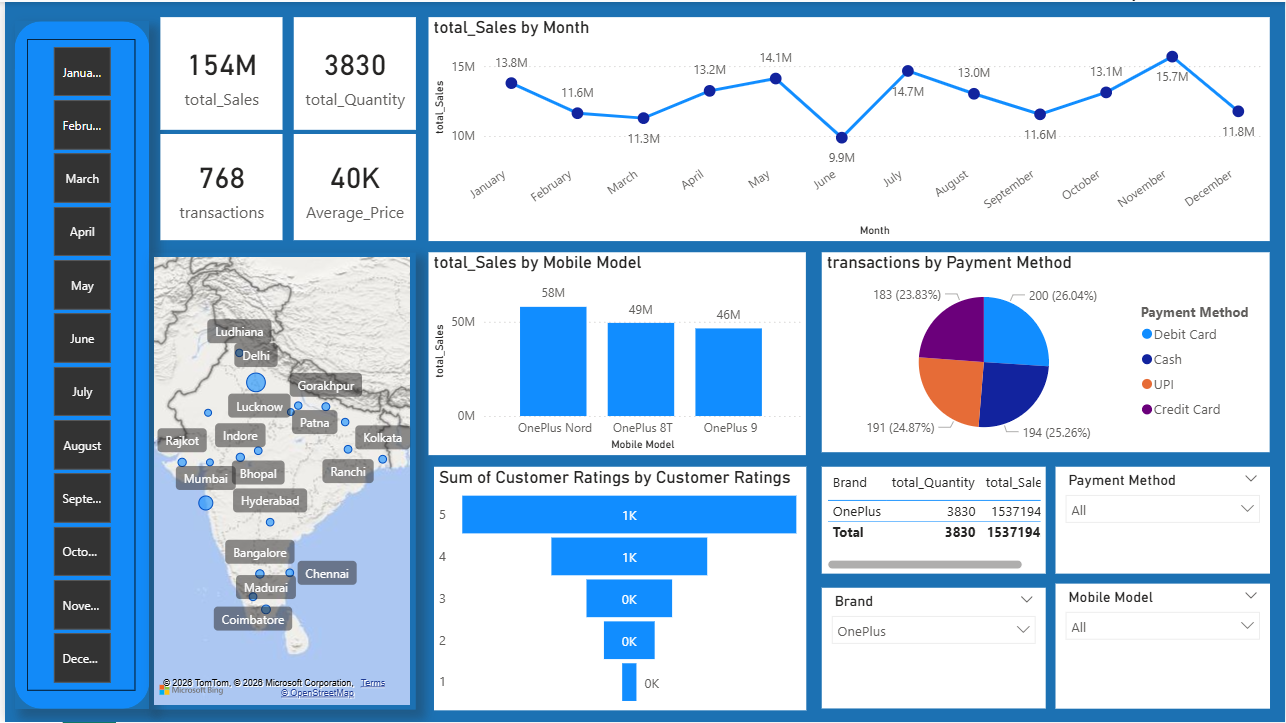

The dashboard page shown, as its layout file describes it:
{"tool":"powerbi","page":{"name":"Page 1","canvas":[1280,720],"ordinal":0},"visuals":[{"type":"shape","box":[9.6,19.3,134.8,687.6],"z":0},{"type":"slicer","fields":{"Values":["Sales_Data.Date.Variation.Date Hierarchy.Month"]},"box":[22,37.1,108.6,651.9],"z":1000},{"type":"card","fields":{"Values":["Sales_Data.total_Sales"]},"box":[154.7,14.5,122.5,112.8],"z":2000},{"type":"card","fields":{"Values":["Sales_Data.total_Quantity"]},"box":[288.5,14.5,122.5,112.8],"z":3000},{"type":"card","fields":{"Values":["Sales_Data.transactions"]},"box":[154.7,132.2,122.5,106.4],"z":4000},{"type":"card","fields":{"Values":["Sales_Data.Average_Price"]},"box":[288.5,132.2,122.5,106.4],"z":5000},{"type":"map","fields":{"Category":["Sales_Data.City"],"Size":["Sales_Data.total_Sales"]},"box":[145.1,249.8,265.9,457.7],"z":6000},{"type":"lineChart","fields":{"Y":["Sales_Data.total_Sales"],"Category":["Sales_Data.Date.Variation.Date Hierarchy.Month","Sales_Data.Date.Variation.Date Hierarchy.Day"]},"box":[423.9,14.5,841.3,224],"z":7000},{"type":"clusteredColumnChart","fields":{"Category":["Sales_Data.Mobile Model"],"Y":["Sales_Data.total_Sales"]},"box":[423.9,249.8,377.1,203.1],"z":8000},{"type":"pieChart","fields":{"Category":["Sales_Data.Payment Method"],"Y":["Sales_Data.transactions"]},"box":[817.2,249.8,448.1,199.9],"z":9000},{"type":"funnel","fields":{"Category":["Sales_Data.Customer Ratings"],"Y":["Sum(Sales_Data.Customer Ratings)"]},"box":[428.7,464.2,372.3,243.4],"z":10000},{"type":"tableEx","fields":{"Values":["Sales_Data.Brand","Sales_Data.total_Quantity","Sales_Data.total_Sales"]},"box":[816.9,464.8,224.2,107.3],"z":11000},{"type":"slicer","fields":{"Values":["Sales_Data.Brand"]},"box":[816.9,585.9,224.2,121],"z":12000},{"type":"slicer","fields":{"Values":["Sales_Data.Payment Method"]},"box":[1050.7,464.8,214.5,107.3],"z":12001},{"type":"slicer","fields":{"Values":["Sales_Data.Mobile Model"]},"box":[1050.7,581.7,214.5,125.2],"z":12002}]}

Visuals, with their boxes in screenshot pixels (x1, y1, x2, y2), scaled from the page's 1280x720 canvas onto the 1286x723 screenshot:
shape: select_region(10, 19, 145, 710)
slicer - Sales_Data.Date.Variation.Date Hierarchy.Month: select_region(22, 37, 131, 692)
card - Sales_Data.total_Sales: select_region(155, 15, 278, 128)
card - Sales_Data.total_Quantity: select_region(290, 15, 413, 128)
card - Sales_Data.transactions: select_region(155, 133, 278, 240)
card - Sales_Data.Average_Price: select_region(290, 133, 413, 240)
map - Sales_Data.City x Sales_Data.total_Sales: select_region(146, 251, 413, 710)
lineChart - Sales_Data.total_Sales x Sales_Data.Date.Variation.Date Hierarchy.Month: select_region(426, 15, 1271, 239)
clusteredColumnChart - Sales_Data.Mobile Model x Sales_Data.total_Sales: select_region(426, 251, 805, 455)
pieChart - Sales_Data.Payment Method x Sales_Data.transactions: select_region(821, 251, 1271, 452)
funnel - Sales_Data.Customer Ratings x Sum(Sales_Data.Customer Ratings): select_region(431, 466, 805, 711)
tableEx - Sales_Data.Brand x Sales_Data.total_Quantity: select_region(821, 467, 1046, 574)
slicer - Sales_Data.Brand: select_region(821, 588, 1046, 710)
slicer - Sales_Data.Payment Method: select_region(1056, 467, 1271, 574)
slicer - Sales_Data.Mobile Model: select_region(1056, 584, 1271, 710)
